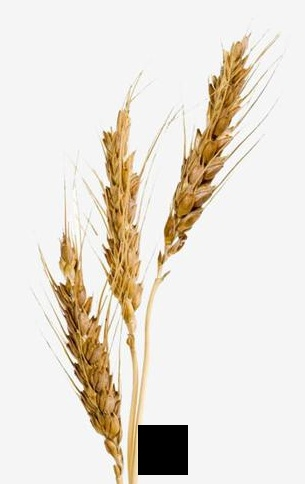wheat: (153, 14, 290, 307), (21, 218, 127, 464), (98, 87, 144, 353)
